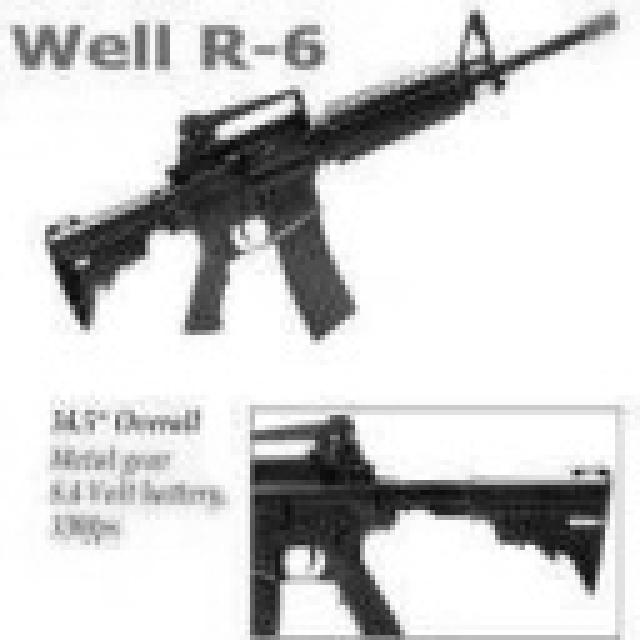Rifle: (5, 0, 640, 345), (240, 390, 640, 640)
